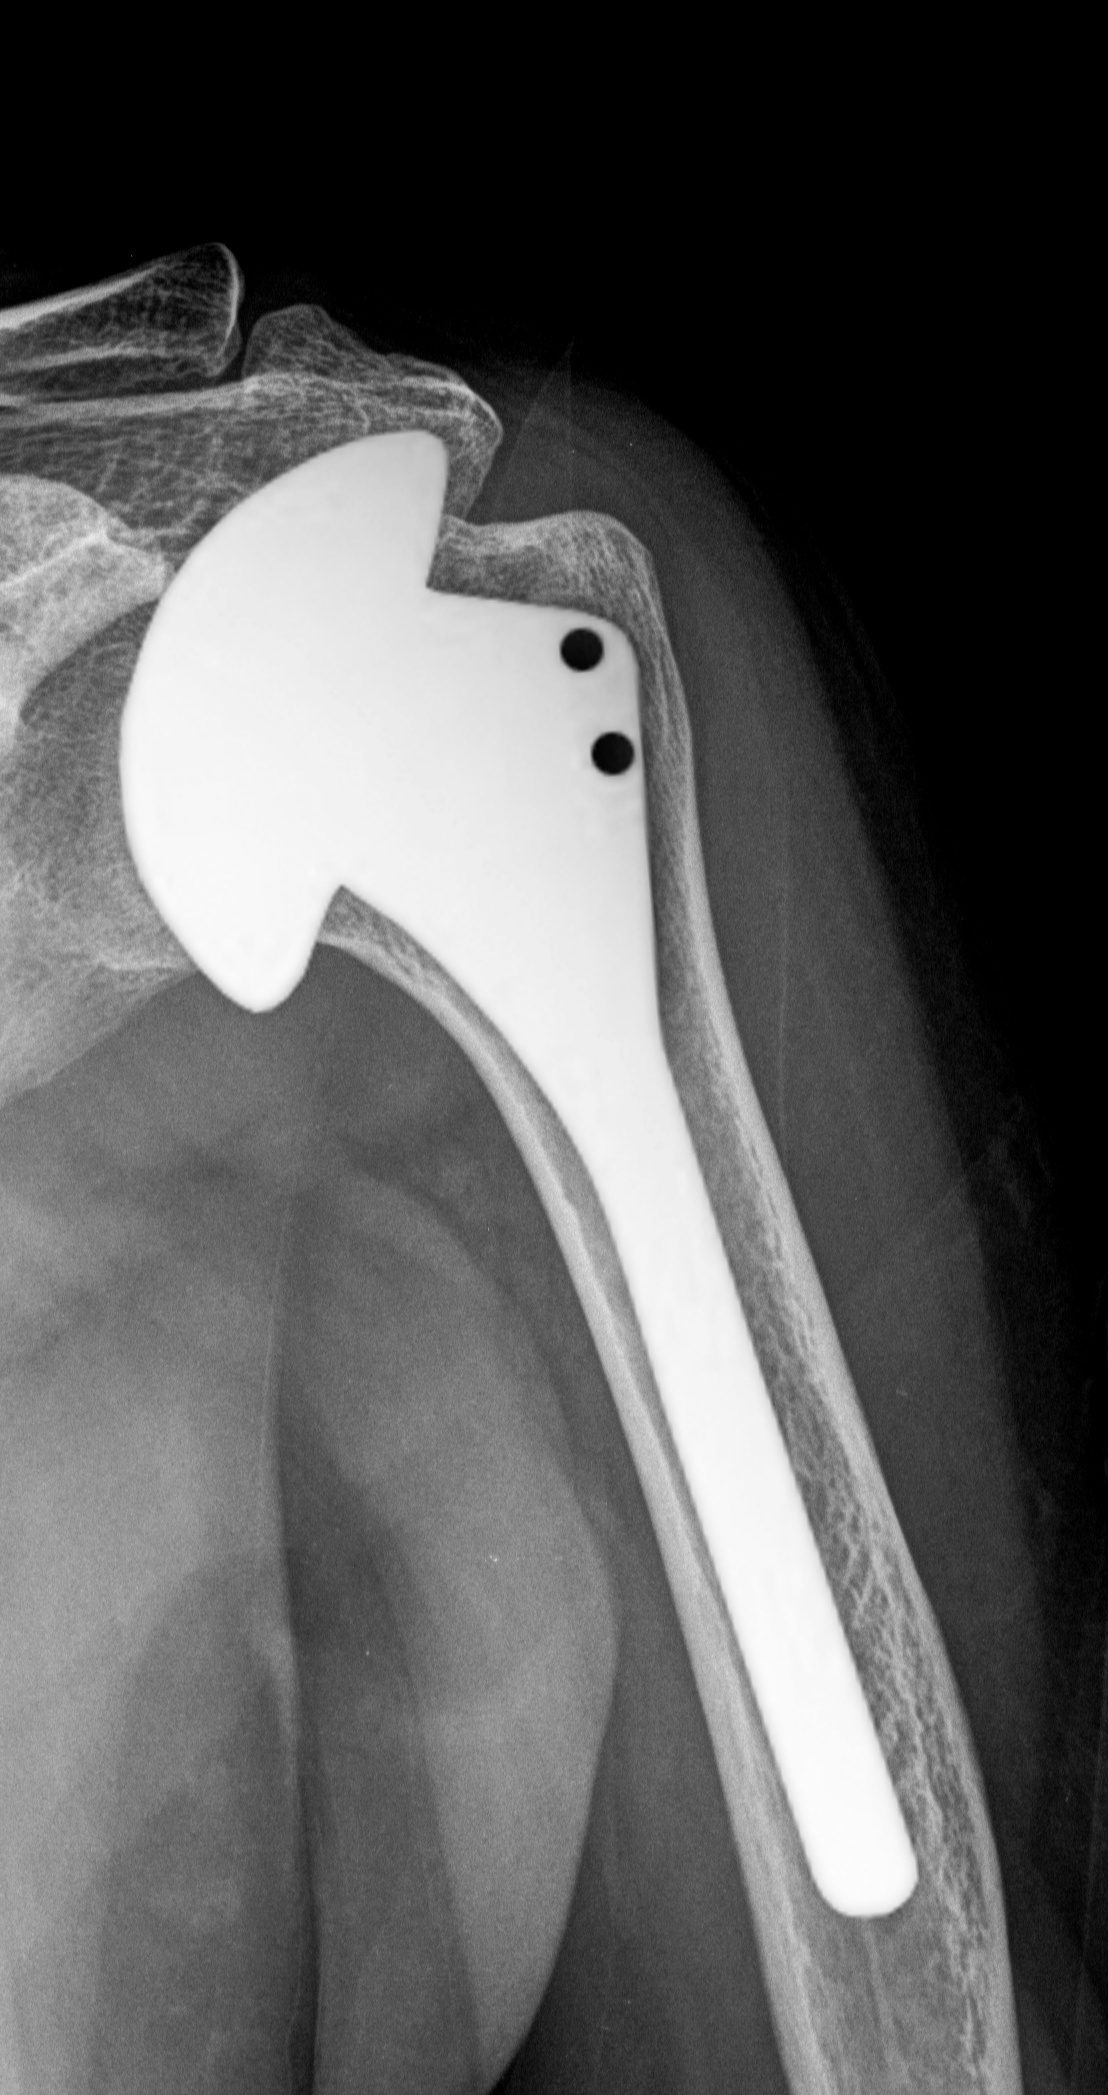Shoulder - Aequalis - Tornier: (111, 417, 711, 1034)
